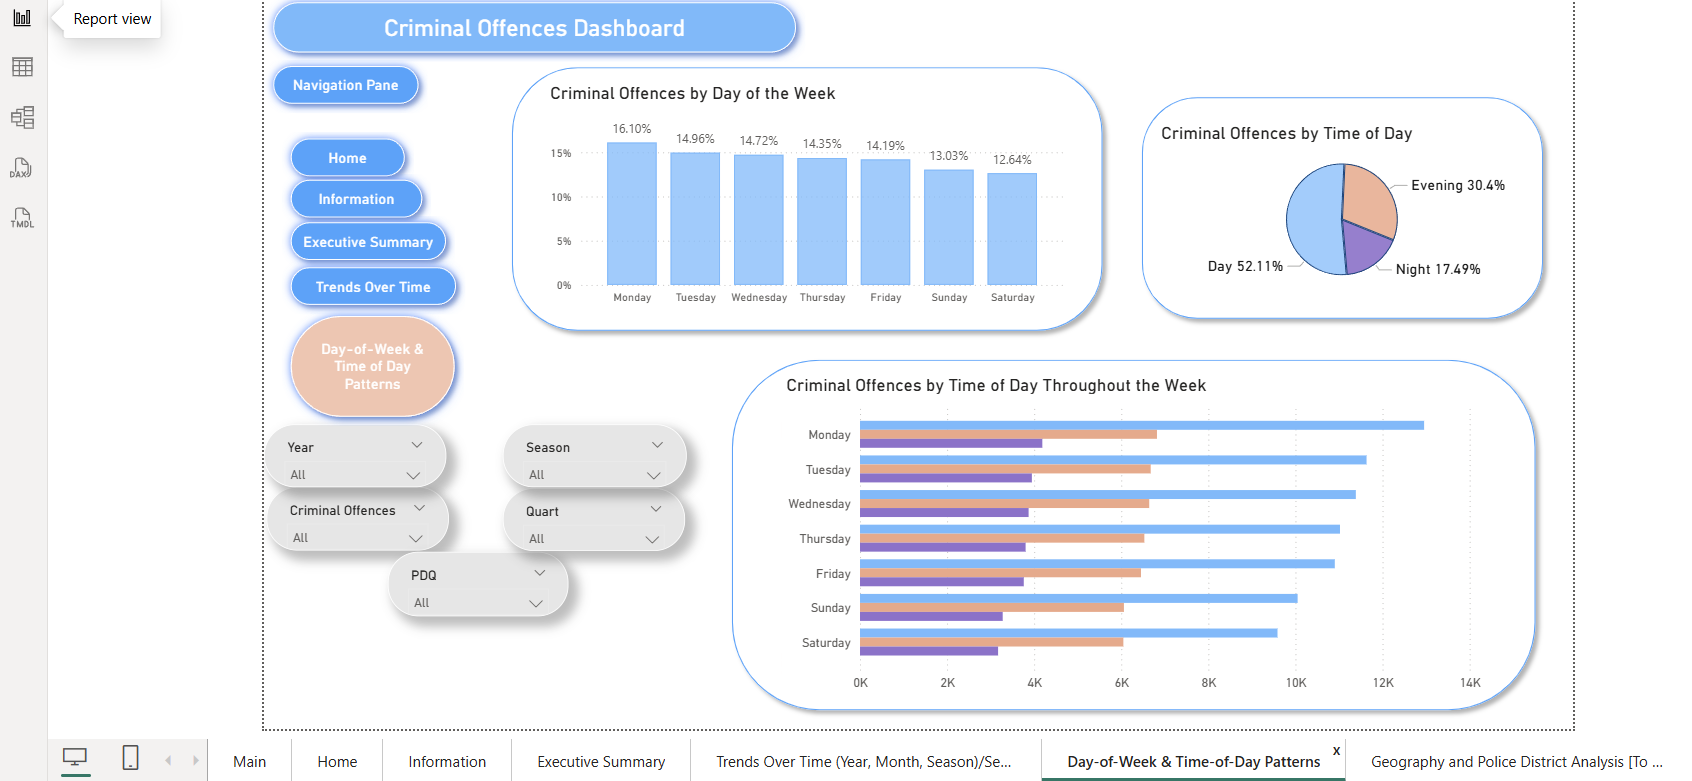

Layout of this report page (visuals, bound fields, positions):
{"tool":"powerbi","page":{"name":"Day-of-Week & Time-of-Day Patterns ","canvas":[1280,720],"ordinal":5},"visuals":[{"type":"shape","box":[233.2,63,595.7,275.7],"z":0},{"type":"shape","box":[449,349.9,804.1,360.9],"z":1000},{"type":"columnChart","title":"Criminal Offences by Day of the Week ","fields":{"Category":["Data.Date - Jour de la Semaine"],"Y":["CountNonNull(Data.Criminal Offences)"]},"box":[275.7,88.5,512.3,224.7],"z":2000},{"type":"slicer","fields":{"Values":["Data.Criminal Offences"]},"box":[2.9,483.2,178.2,62.7],"z":3000},{"type":"slicer","fields":{"Values":["Data.PDQ"]},"box":[120.8,546.1,177,63.1],"z":4000},{"type":"slicer","fields":{"Values":["Data.Quart"]},"box":[233.3,484.4,178.4,61.7],"z":5000},{"type":"shape","box":[0,0,529.5,67.3],"z":6000},{"type":"shape","box":[0,62.4,160.2,55],"z":7000},{"type":"clusteredBarChart","title":"Criminal Offences by Time of Day Throughout the Week","fields":{"Category":["Data.Date - Jour de la Semaine"],"Series":["Data.Quart"],"Y":["CountNonNull(Data.Criminal Offences)"]},"box":[506.6,372.8,689.4,316.6],"z":14000},{"type":"slicer","fields":{"Values":["Data.Date - Annee"]},"box":[0,421.9,178.2,61.3],"z":15000},{"type":"slicer","fields":{"Values":["Data.Season of the Year"]},"box":[233.3,421.3,179.8,61.7],"z":16000},{"type":"shape","box":[849.4,93.3,410.3,234.6],"z":17000},{"type":"pieChart","title":"Criminal Offences by Time of Day","fields":{"Category":["Data.Quart"],"Y":["CountNonNull(Data.Criminal Offences)"]},"box":[867.2,120.8,374.6,181.1],"z":18000},{"type":"shape","box":[17.6,133.1,129.6,55],"z":18001},{"type":"shape","box":[17.6,173.4,146.7,55],"z":18002},{"type":"shape","box":[17.6,215,170,55],"z":18003},{"type":"shape","box":[17.6,258.8,179.8,54.9],"z":18004},{"type":"shape","box":[17.6,306.8,178.4,116.6],"z":18005}]}

Visuals, with their boxes on the page's 1280x720 design canvas (x1, y1, x2, y2). These are canvas units, not pixel positions in the 1692x781 screenshot, which may show the page scaled, cropped or inside an application window:
shape: locate(233, 63, 829, 339)
shape: locate(449, 350, 1253, 711)
"Criminal Offences by Day of the Week " columnChart: locate(276, 88, 788, 313)
slicer - Data.Criminal Offences: locate(3, 483, 181, 546)
slicer - Data.PDQ: locate(121, 546, 298, 609)
slicer - Data.Quart: locate(233, 484, 412, 546)
shape: locate(0, 0, 530, 67)
shape: locate(0, 62, 160, 117)
"Criminal Offences by Time of Day Throughout the Week" clusteredBarChart: locate(507, 373, 1196, 689)
slicer - Data.Date - Annee: locate(0, 422, 178, 483)
slicer - Data.Season of the Year: locate(233, 421, 413, 483)
shape: locate(849, 93, 1260, 328)
"Criminal Offences by Time of Day" pieChart: locate(867, 121, 1242, 302)
shape: locate(18, 133, 147, 188)
shape: locate(18, 173, 164, 228)
shape: locate(18, 215, 188, 270)
shape: locate(18, 259, 197, 314)
shape: locate(18, 307, 196, 423)
